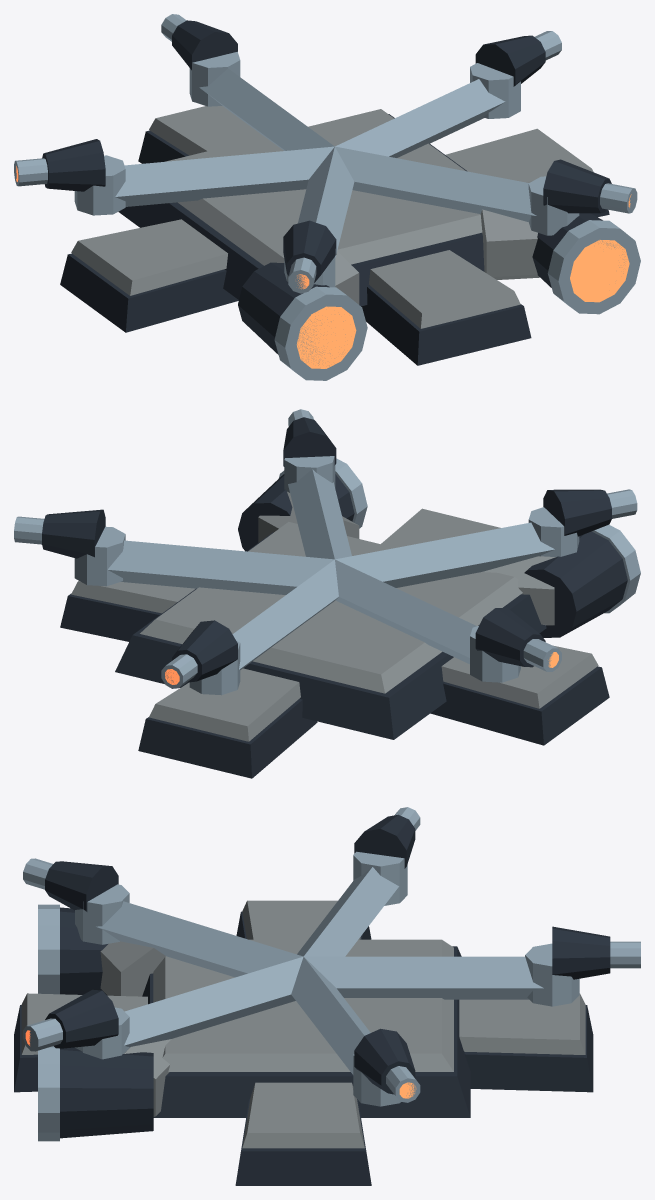
Rendered from c3_torusEnemy.glb.
3 views of the same model, one above another, from view 1: azimuth 30°, elevation 25°; view 2: azimuth 150°, elevation 25°; view 3: azimuth 270°, elevation 25° (orthographic). The views are drawn at different scales.
Parts seen in each view (by area): view 1: torusEnemy / Armor, ring_rotor / Titanium, torusEnemy / Chassis, ring_rotor / Chassis, torusEnemy / Titanium, torusEnemy / Energy; view 2: ring_rotor / Titanium, torusEnemy / Armor, torusEnemy / Chassis, ring_rotor / Chassis, torusEnemy / Titanium; view 3: ring_rotor / Titanium, torusEnemy / Armor, torusEnemy / Chassis, ring_rotor / Chassis, torusEnemy / Titanium.
Part boxes in pixels (x1=…): torusEnemy / Armor: x1=71, y1=106, x2=593, y2=328; ring_rotor / Titanium: x1=14, y1=14, x2=637, y2=293; torusEnemy / Chassis: x1=60, y1=114, x2=609, y2=365; ring_rotor / Chassis: x1=42, y1=20, x2=611, y2=282; torusEnemy / Titanium: x1=274, y1=220, x2=640, y2=380; torusEnemy / Energy: x1=296, y1=240, x2=629, y2=368; ring_rotor / Titanium: x1=14, y1=409, x2=637, y2=695; torusEnemy / Armor: x1=71, y1=491, x2=598, y2=741; torusEnemy / Chassis: x1=60, y1=474, x2=627, y2=778; ring_rotor / Chassis: x1=42, y1=417, x2=611, y2=682; torusEnemy / Titanium: x1=278, y1=458, x2=640, y2=613; ring_rotor / Titanium: x1=23, y1=807, x2=640, y2=1106; torusEnemy / Armor: x1=21, y1=900, x2=585, y2=1148; torusEnemy / Chassis: x1=14, y1=907, x2=593, y2=1185; ring_rotor / Chassis: x1=45, y1=814, x2=610, y2=1094; torusEnemy / Titanium: x1=38, y1=904, x2=59, y2=1141.
Size of the model in its own units: 1.91 by 0.45 by 1.84.
